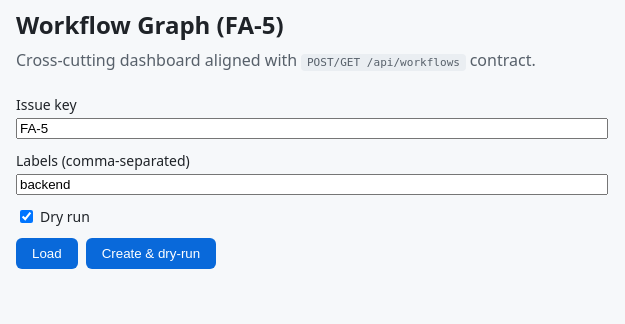
Test case: WorkflowRunnerComponent › shows API errors
What coordinates should you click on to do the following:
click the button "Load"
I would click on:
 (47, 254)
Its box is [16, 238, 78, 269].
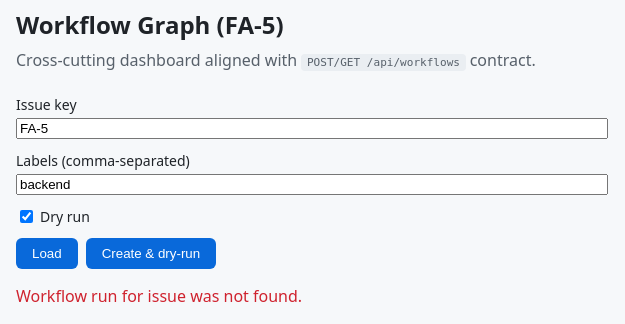
Now the message with test id "workflow-error" shows "not found", box [16, 285, 302, 307]
